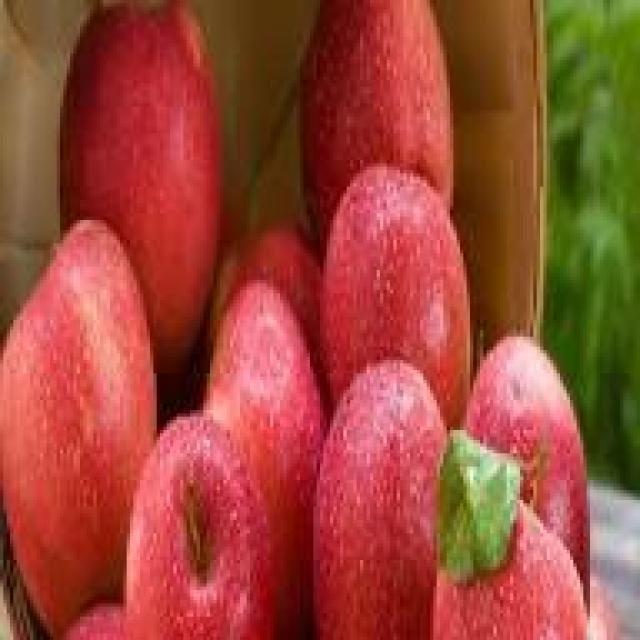apple: (53, 23, 220, 367), (3, 230, 147, 603), (203, 267, 340, 600), (330, 163, 480, 440), (297, 23, 470, 244), (313, 360, 440, 637), (464, 313, 594, 580), (123, 416, 270, 636)
